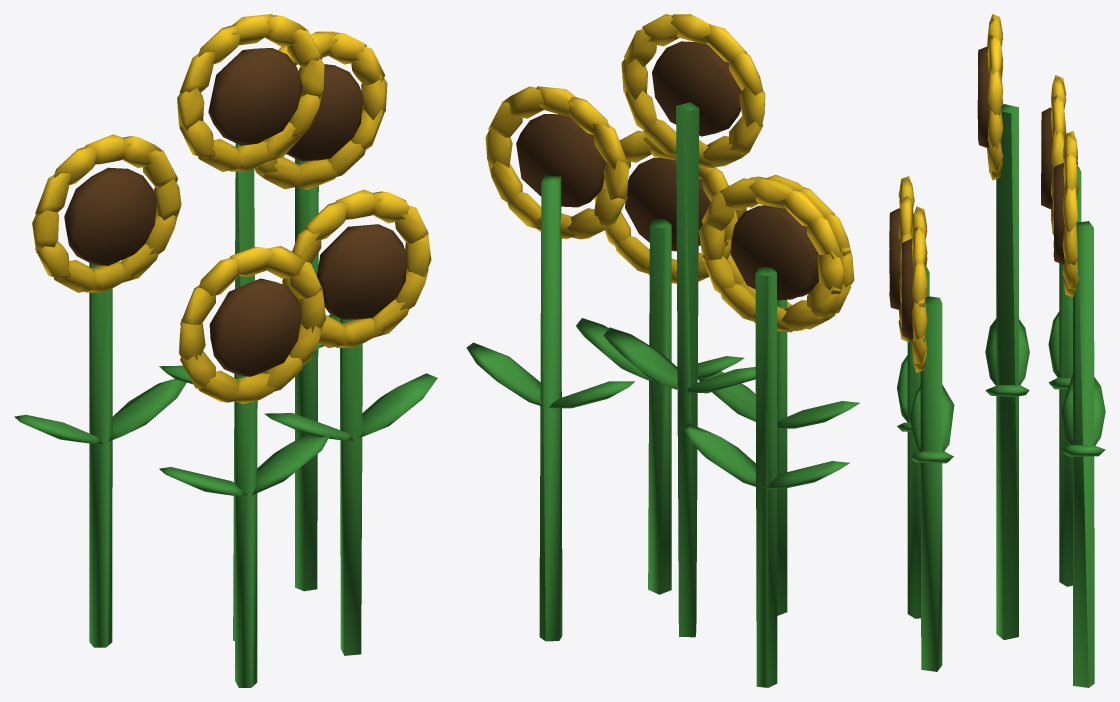
The model's file is sunflowers_lod.glb.
3 views of the same model, side by side, from view 1: azimuth 30°, elevation 25°; view 2: azimuth 150°, elevation 25°; view 3: azimuth 270°, elevation 25° (orthographic). The views are drawn at different scales.
Parts seen in each view (by area): view 1: sunflowers_lod; view 2: sunflowers_lod; view 3: sunflowers_lod.
Boxes of the visible parts, x1,y1,x2,y2 form: sunflowers_lod: [14, 14, 437, 687]; sunflowers_lod: [466, 14, 859, 687]; sunflowers_lod: [889, 14, 1105, 687].
Size of the model in its own units: 1.7 by 2.68 by 0.8565.
